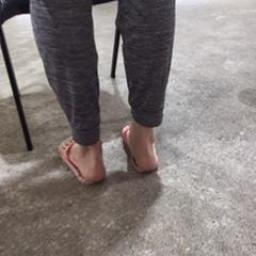Back View -Both Feet-: (53, 103, 172, 192)
